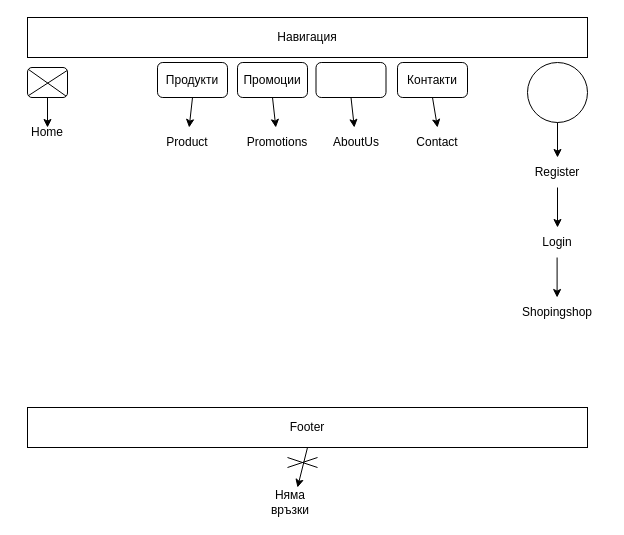
Image size: 624x535. Some labels were removed from this diagram. Here are the shapes that lost their labels. From the top down, the centre of each, then its label:
pixel 350 80: За Нас
pixel 557 92: Иконка за количка
